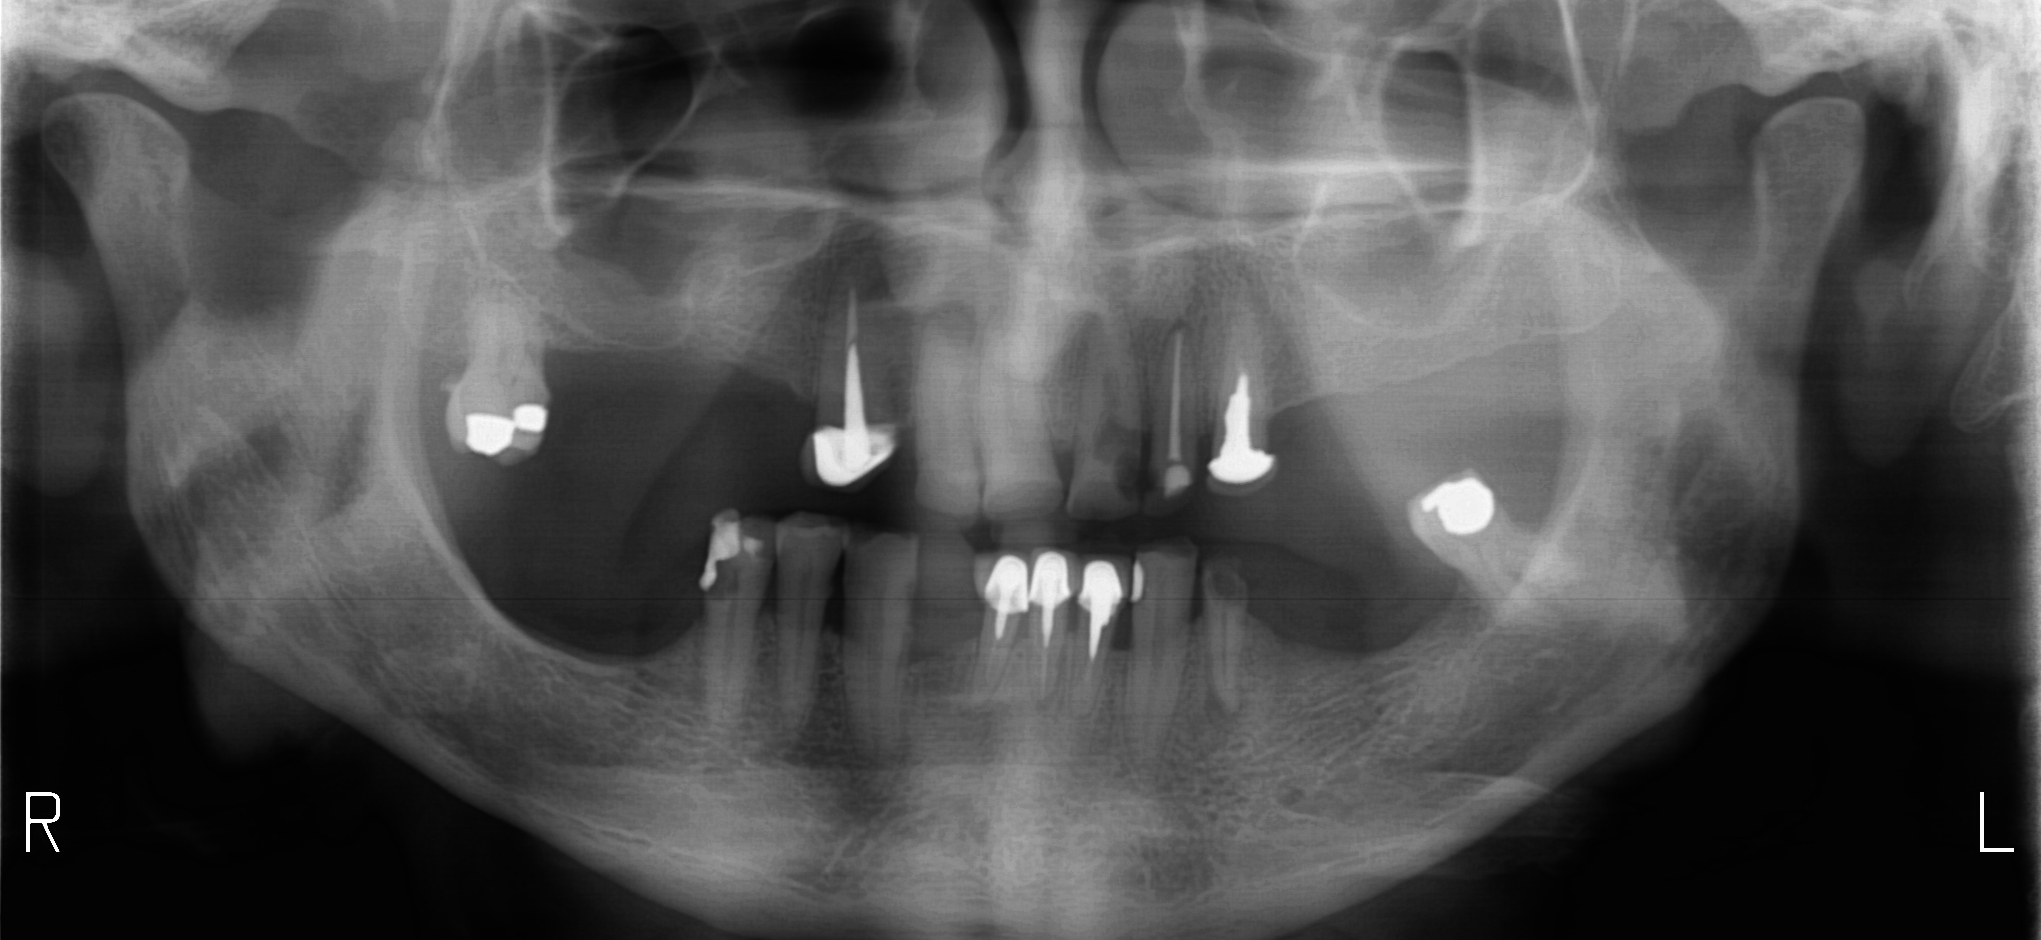cavity: (1103, 422, 1138, 497), (705, 560, 735, 599), (743, 521, 771, 555), (903, 587, 912, 628), (1148, 466, 1153, 486)
